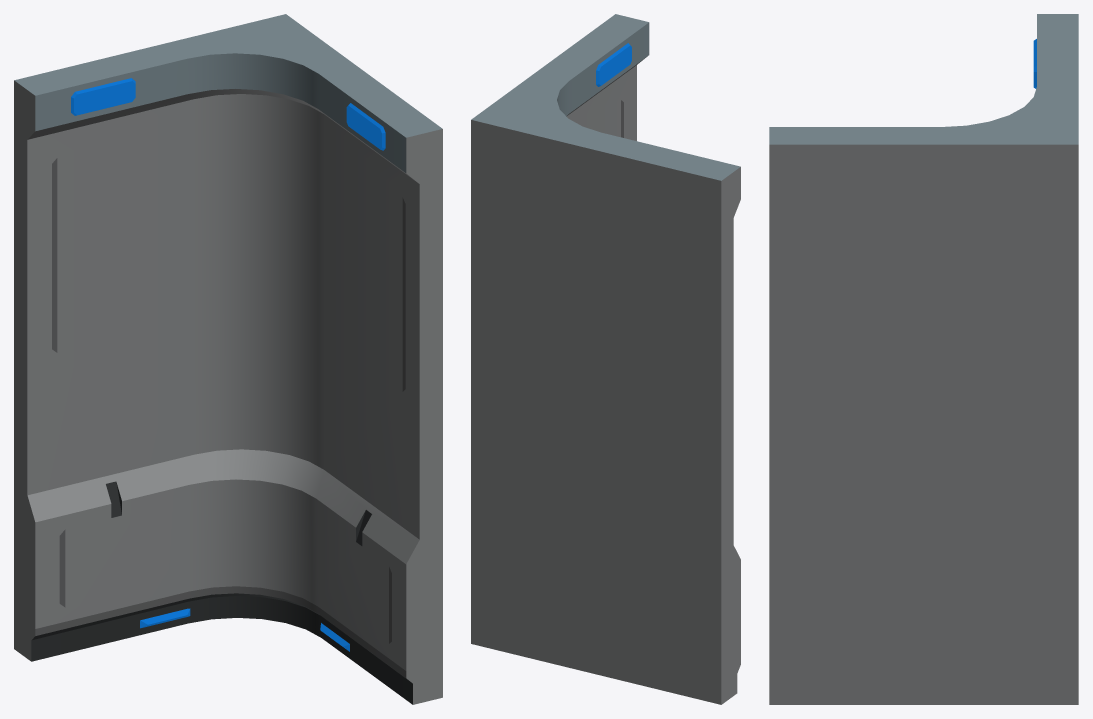
The model's file is Wall_type_B_070.glb.
The picture shows the model from 3 angles, left to right: view 1: azimuth 30°, elevation 25°; view 2: azimuth 150°, elevation 25°; view 3: azimuth 270°, elevation 25°; orthographic projection. The views are drawn at different scales.
Visible parts, largest first — view 1: Wall_type_B_070; view 2: Wall_type_B_070; view 3: Wall_type_B_070.
Boxes of the visible parts, box(x1,y1,x2,y2) form: Wall_type_B_070: box(14, 14, 442, 704); Wall_type_B_070: box(471, 14, 740, 704); Wall_type_B_070: box(769, 14, 1078, 704).
Size of the model in its own units: 2 by 4 by 2.
Materials: 2 (2 with a texture image).
